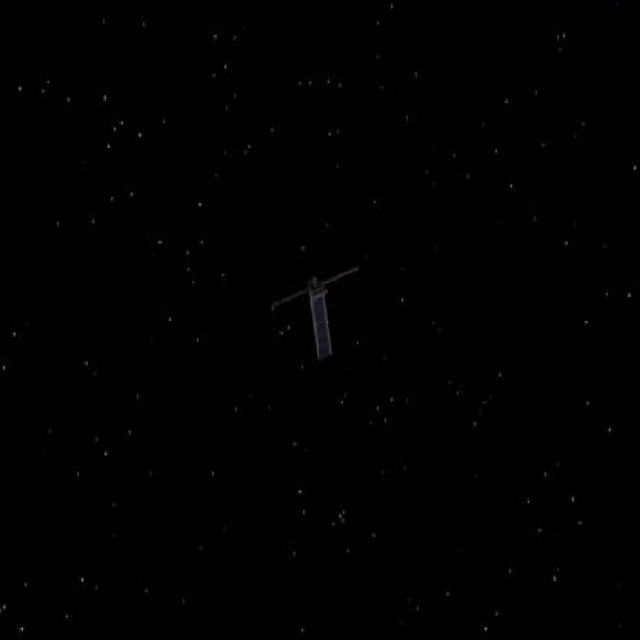satellite: (253, 249, 366, 369)
